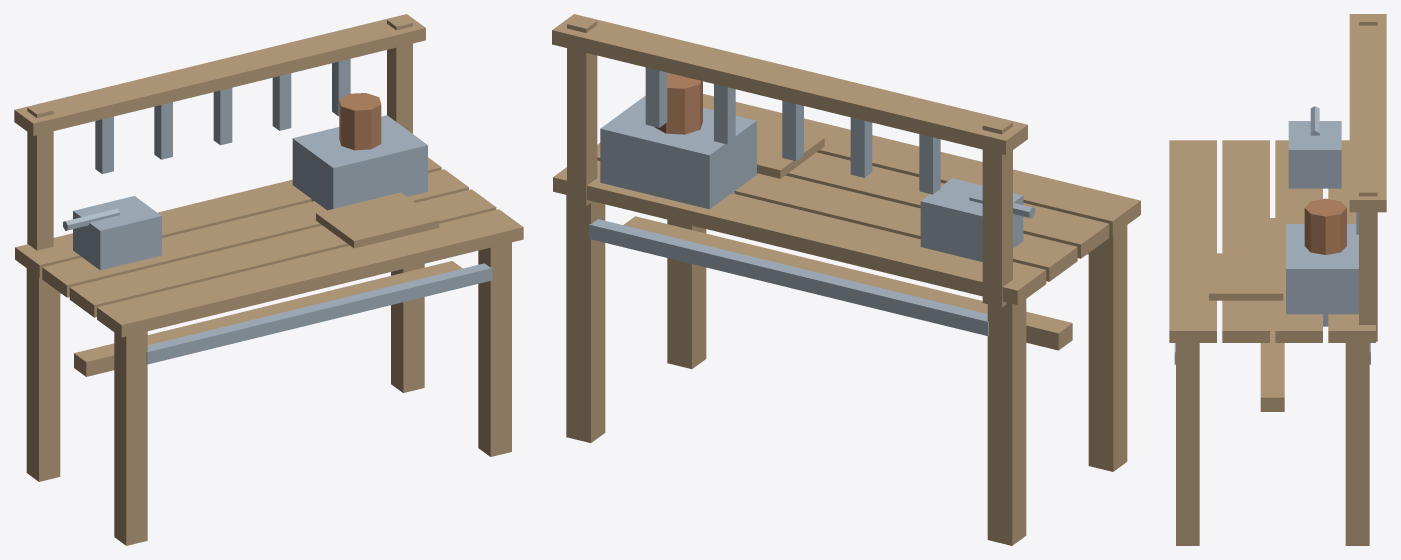
File: wipe-day-survival-island-workbench-tier-two-8a5235e7__27464.glb
3 views of the same model, side by side, from view 1: azimuth 30°, elevation 25°; view 2: azimuth 150°, elevation 25°; view 3: azimuth 270°, elevation 25° (orthographic). The views are drawn at different scales.
Visible parts, largest first — view 1: workbench-tier-two; view 2: workbench-tier-two; view 3: workbench-tier-two.
Part boxes in pixels (<box>): workbench-tier-two: <box>14,14,523,545</box>; workbench-tier-two: <box>552,14,1140,545</box>; workbench-tier-two: <box>1169,14,1386,545</box>.
Bounding box in the file's own units: 1.7 × 1.46 × 0.82.
